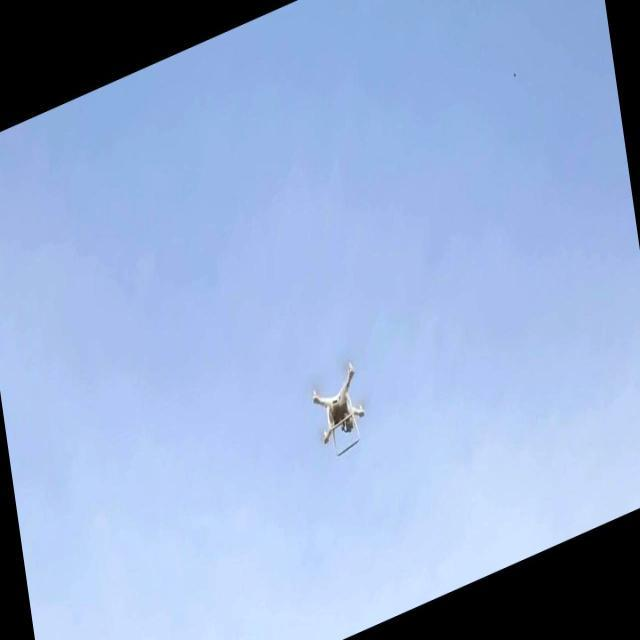drone: (307, 357, 371, 468)
